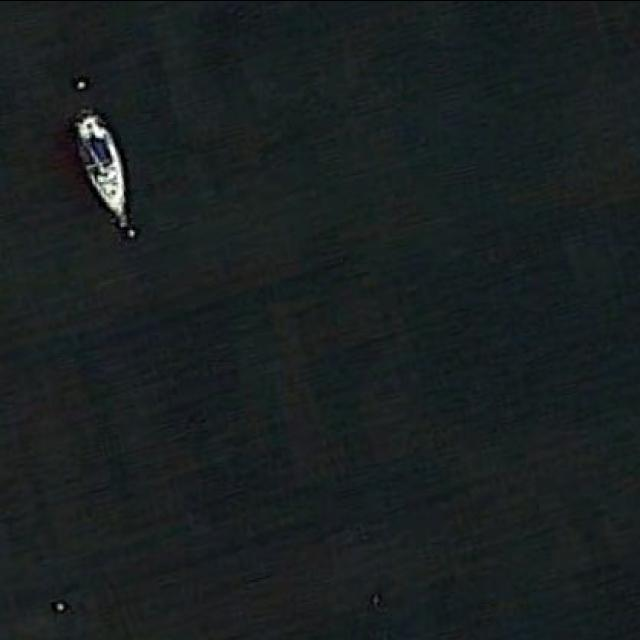ship: (74, 104, 128, 222)
